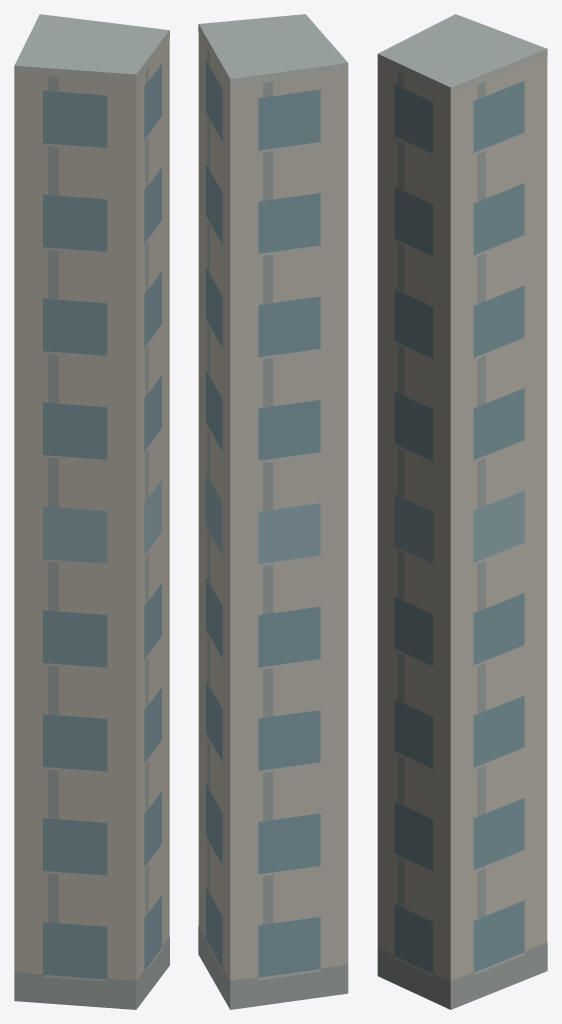
The model's file is survey-upis-32971156.glb.
3 views of the same model, side by side, from view 1: azimuth 30°, elevation 25°; view 2: azimuth 150°, elevation 25°; view 3: azimuth 270°, elevation 25° (orthographic).
Parts seen in each view (by area): view 1: survey-upis-32971156.tmp; view 2: survey-upis-32971156.tmp; view 3: survey-upis-32971156.tmp.
Boxes of the visible parts, x1,y1,x2,y2 form: survey-upis-32971156.tmp: (14, 14, 169, 1009); survey-upis-32971156.tmp: (198, 14, 348, 1009); survey-upis-32971156.tmp: (377, 14, 547, 1009).
Size of the model in its own units: 4.7 by 27.45 by 4.59.
